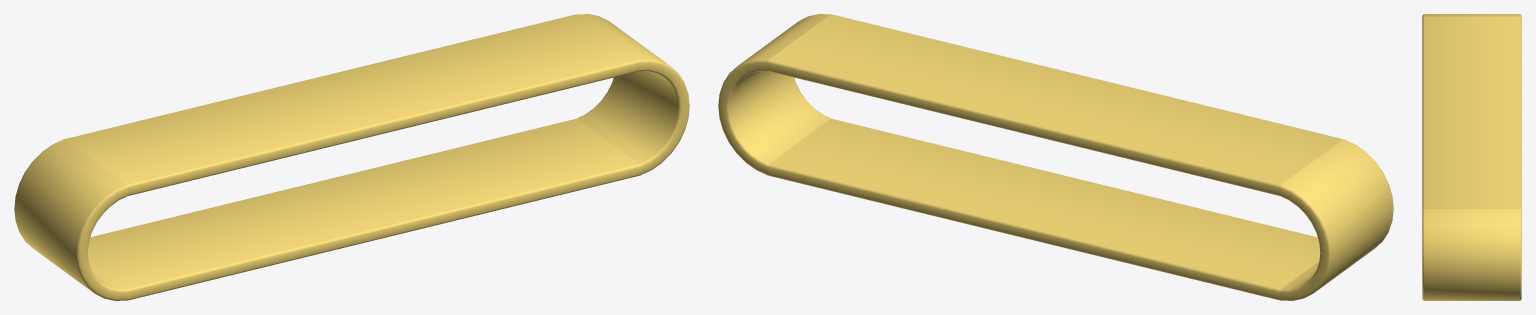
Rendered from conveyor.fbx.
3 renders of one model, left to right at view 1: azimuth 30°, elevation 25°; view 2: azimuth 150°, elevation 25°; view 3: azimuth 270°, elevation 25°, orthographic. The views are drawn at different scales.
Visible parts, largest first — view 1: Circle.007, Circle.006, Circle.008; view 2: Circle.007, Circle.006, Circle.008; view 3: Circle.007, Circle.008, Circle.006.
Boxes of the visible parts, bbox=[...] form: Circle.007: bbox=[65, 14, 640, 300]; Circle.006: bbox=[14, 139, 127, 300]; Circle.008: bbox=[577, 14, 689, 175]; Circle.007: bbox=[767, 14, 1342, 300]; Circle.006: bbox=[1280, 139, 1393, 300]; Circle.008: bbox=[718, 14, 830, 175]; Circle.007: bbox=[1422, 16, 1521, 210]; Circle.008: bbox=[1422, 209, 1521, 300]; Circle.006: bbox=[1422, 14, 1521, 17].
Size of the model in its own units: 11 by 1.99 by 2.
1 material, 1 textured.
